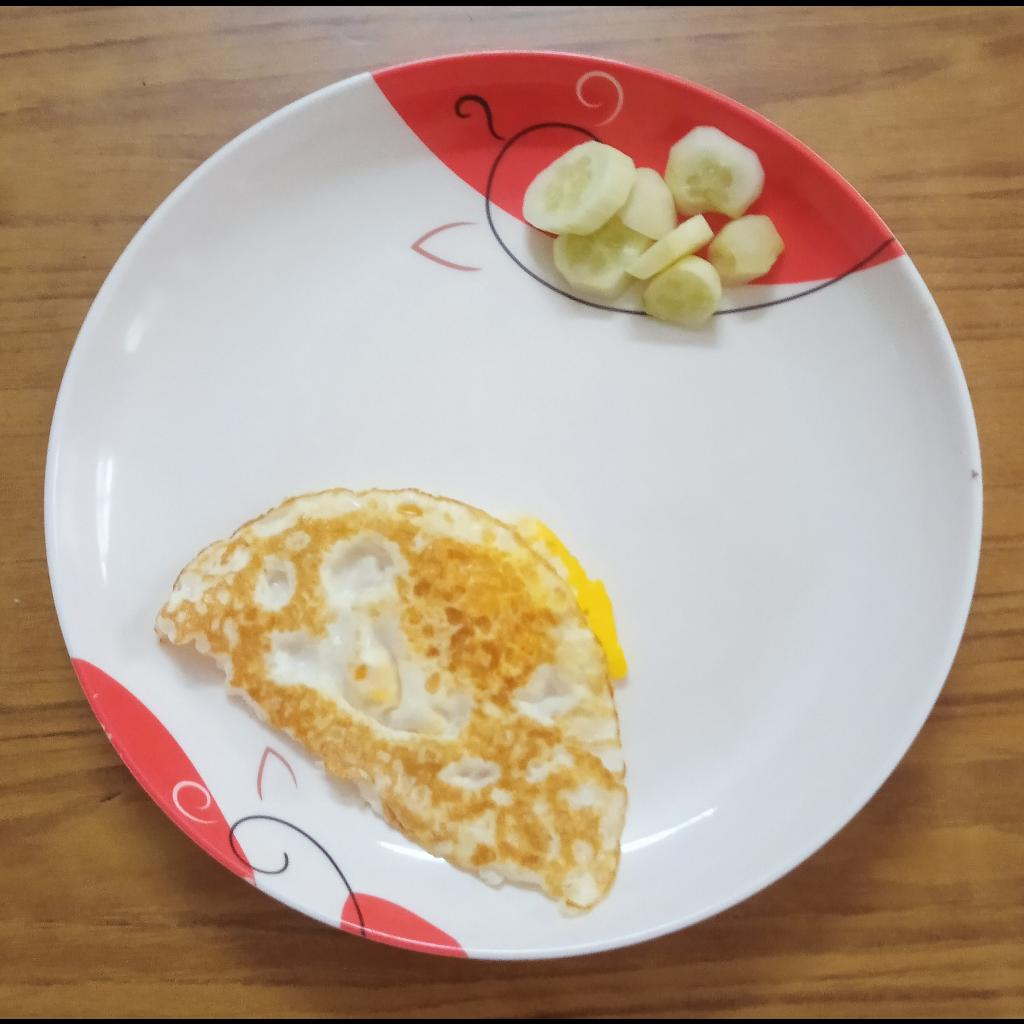cucumber: (519, 126, 786, 325)
egg-poached: (154, 482, 632, 910)
